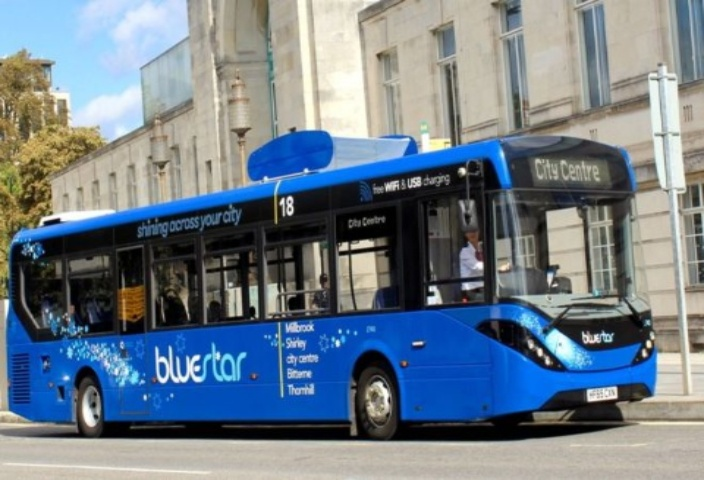bus: (9, 135, 667, 439)
